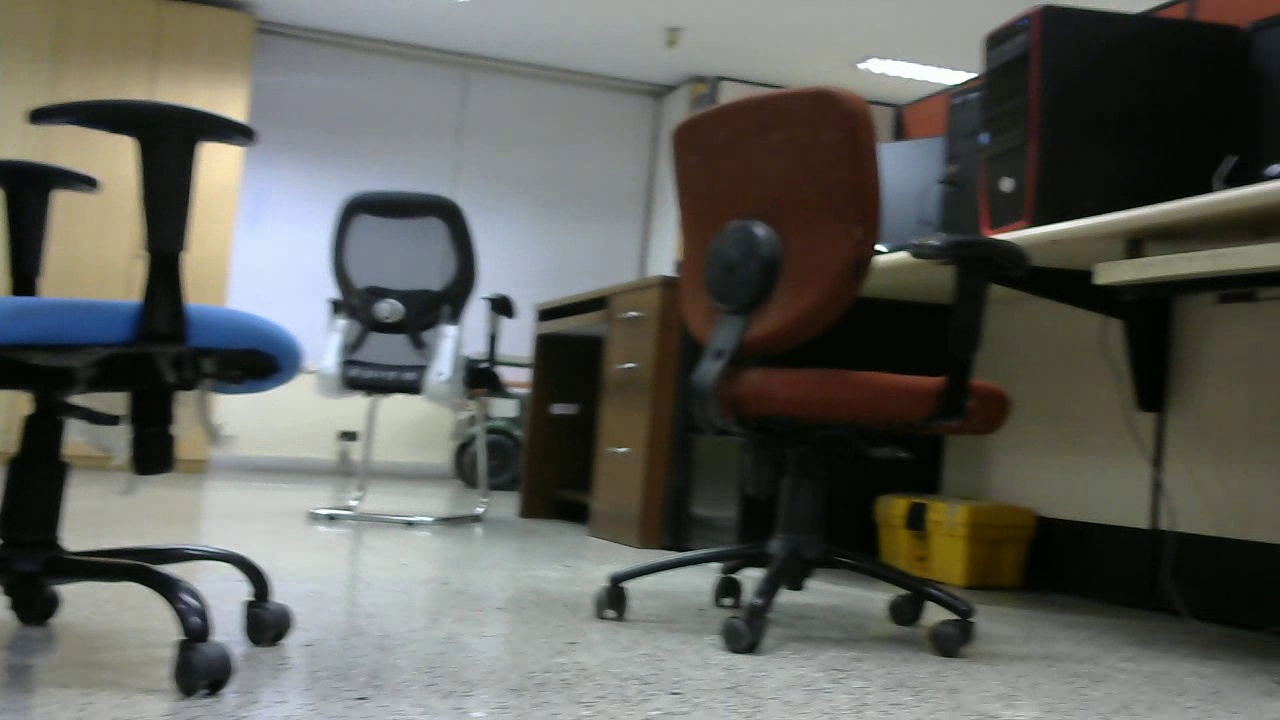chair: (604, 87, 967, 638), (317, 195, 494, 522)
